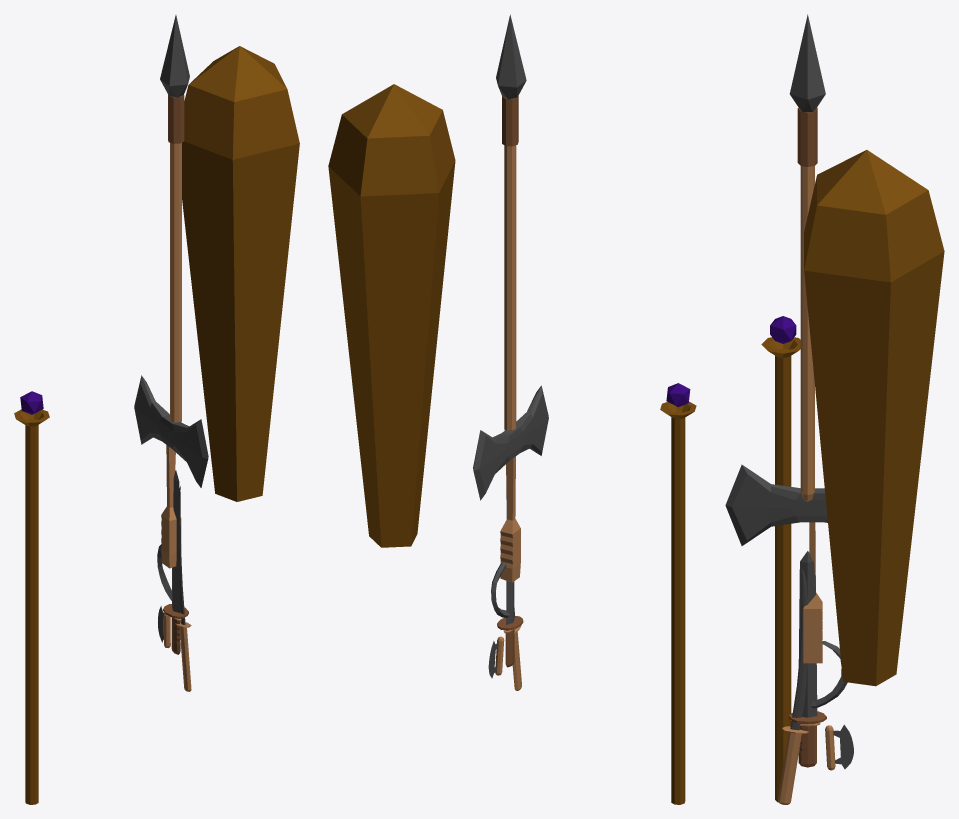
The model's file is Medieval.fbx_Weapons.fbx.
3 views of the same model, side by side, from view 1: azimuth 30°, elevation 25°; view 2: azimuth 150°, elevation 25°; view 3: azimuth 270°, elevation 25° (orthographic). The views are drawn at different scales.
Visible parts, largest first — view 1: Club, Sceptre, Spear, Axe, Sword, Katana; view 2: Club, Sceptre, Spear, Axe, Sword; view 3: Club, Sceptre, Spear, Axe, Sword, Katana, Ulu, Sickle.
Boxes of the visible parts, x1,y1,x2,y2 form: Club: (182,46,299,501); Sceptre: (14,391,49,804); Spear: (160,15,189,422); Axe: (134,375,208,568); Sword: (163,470,188,654); Katana: (175,486,191,691); Club: (328,84,455,547); Sceptre: (660,383,696,804); Spear: (496,14,526,430); Axe: (473,385,548,582); Sword: (497,491,523,667); Club: (804,150,944,686); Sceptre: (761,316,800,802); Spear: (789,14,825,501); Axe: (725,464,827,663); Sword: (788,551,826,767); Katana: (778,569,808,804); Ulu: (825,724,853,770); Sickle: (800,641,847,726).
Bounding box in the file's own units: 174 × 89.19 × 393.
